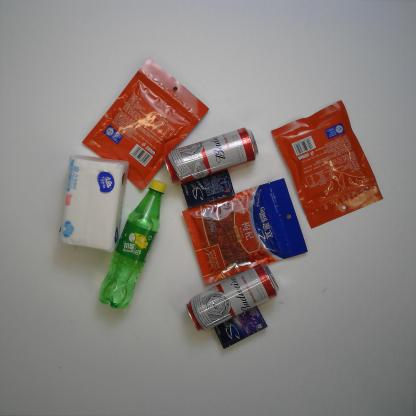Alcohol: (184, 262, 280, 333), (163, 126, 260, 186)
Dried Fruit: (81, 55, 210, 193), (270, 98, 385, 231), (182, 176, 309, 286)
Drink: (97, 179, 168, 311)
Gum: (213, 304, 269, 350), (179, 168, 237, 211)
Tissue: (56, 154, 132, 254)
